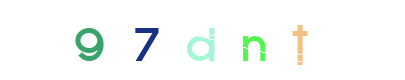7: (110, 0, 190, 80)
9: (106, 0, 186, 80)
D: (149, 0, 229, 80)
N: (163, 0, 243, 80)
T: (260, 0, 340, 80)
